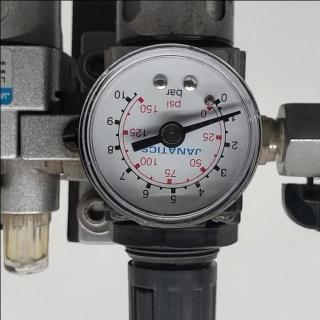gauge: (78, 42, 274, 234), (159, 120, 185, 148), (202, 89, 227, 116), (121, 84, 143, 108), (232, 106, 242, 116)
